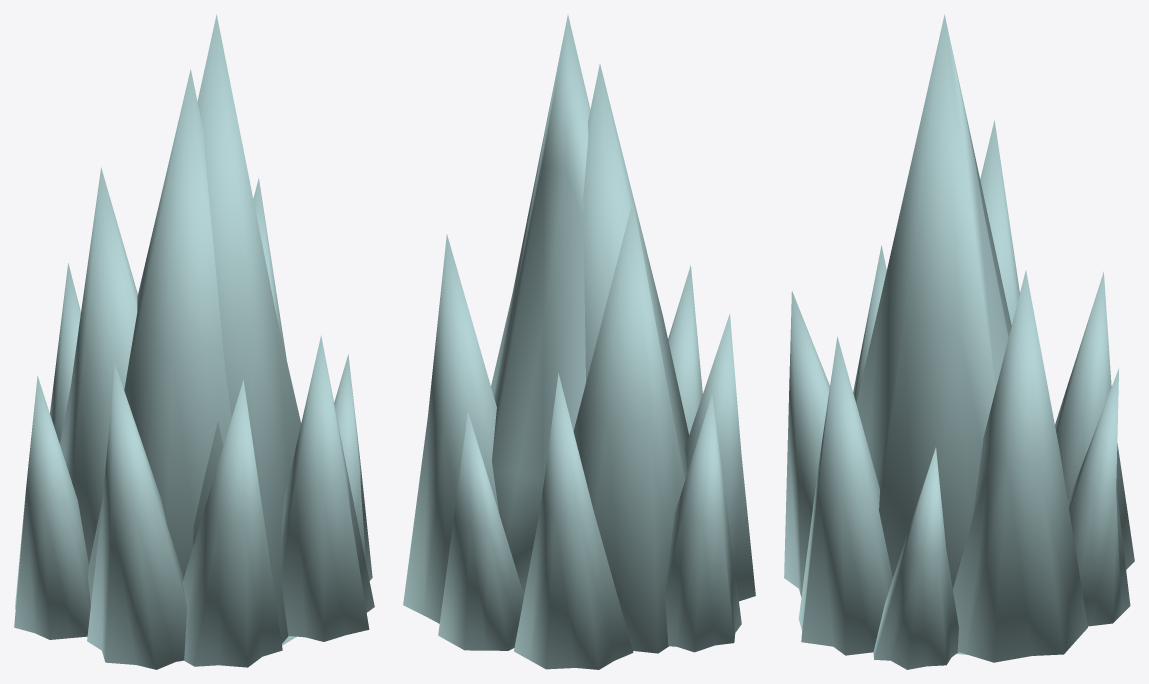
The model's file is scene_3_spikes.fbx.
3 renders of one model, left to right at view 1: azimuth 30°, elevation 25°; view 2: azimuth 150°, elevation 25°; view 3: azimuth 270°, elevation 25°, orthographic. The views are drawn at different scales.
Visible parts, largest first — view 1: Cone; view 2: Cone; view 3: Cone.
Boxes of the visible parts, x1,y1,x2,y2 form: Cone: (14, 14, 374, 669); Cone: (403, 15, 755, 669); Cone: (784, 14, 1134, 669).
Size of the model in its own units: 1.1 by 1.9 by 1.02.
